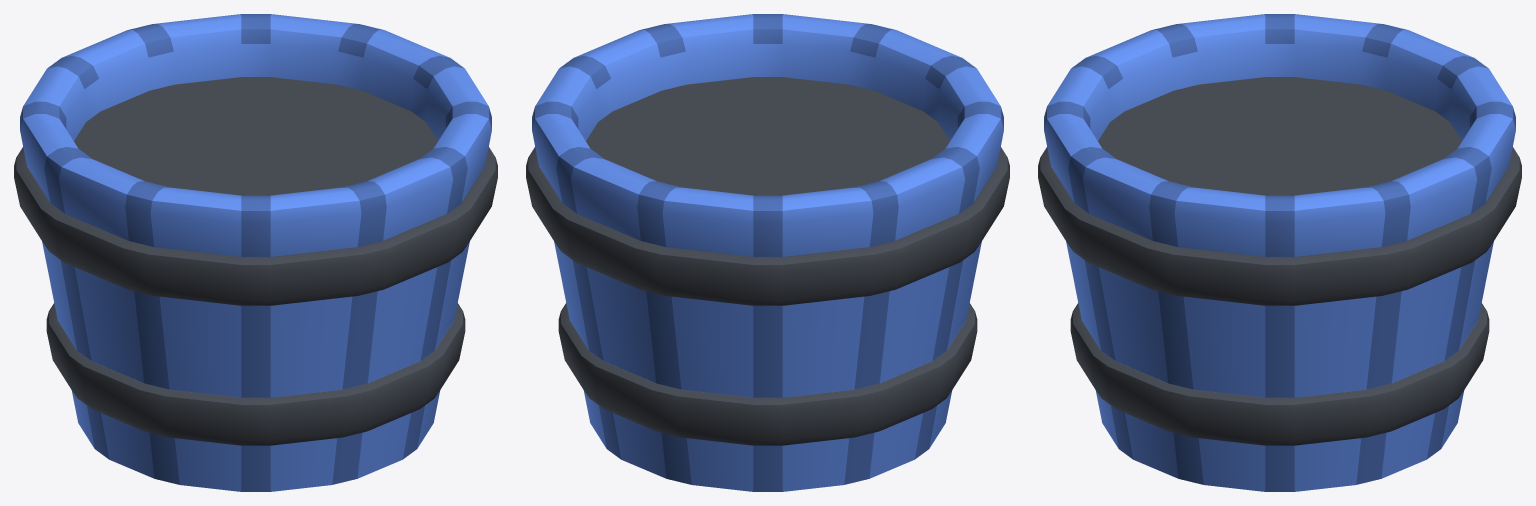
Rendered from Bucket002.fbx.
3 views of the same model, side by side, from view 1: azimuth 30°, elevation 25°; view 2: azimuth 150°, elevation 25°; view 3: azimuth 270°, elevation 25° (orthographic).
Visible parts, largest first — view 1: Bucket002; view 2: Bucket002; view 3: Bucket002.
Boxes of the visible parts, x1=… form: Bucket002: x1=14, y1=14, x2=497, y2=491; Bucket002: x1=526, y1=14, x2=1009, y2=491; Bucket002: x1=1038, y1=14, x2=1521, y2=491.
Size of the model in its own units: 116 by 81.93 by 116.
